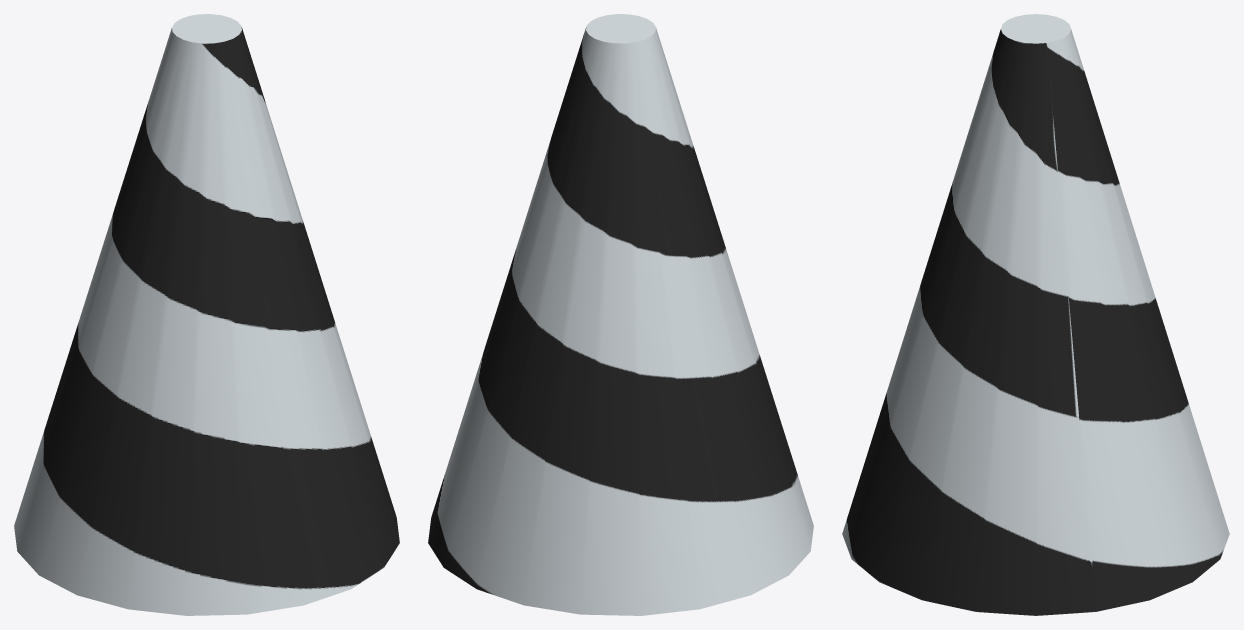
File: spiral.fbx
The picture shows the model from 3 angles, left to right: view 1: azimuth 30°, elevation 25°; view 2: azimuth 150°, elevation 25°; view 3: azimuth 270°, elevation 25°; orthographic projection.
Parts seen in each view (by area): view 1: pCylinder1; view 2: pCylinder1; view 3: pCylinder1.
Boxes of the visible parts, x1,y1,x2,y2 form: pCylinder1: [14, 14, 399, 615]; pCylinder1: [428, 14, 813, 615]; pCylinder1: [842, 14, 1229, 615].
Size of the model in its own units: 4.99 by 7.17 by 4.99.
1 material, 1 textured.
